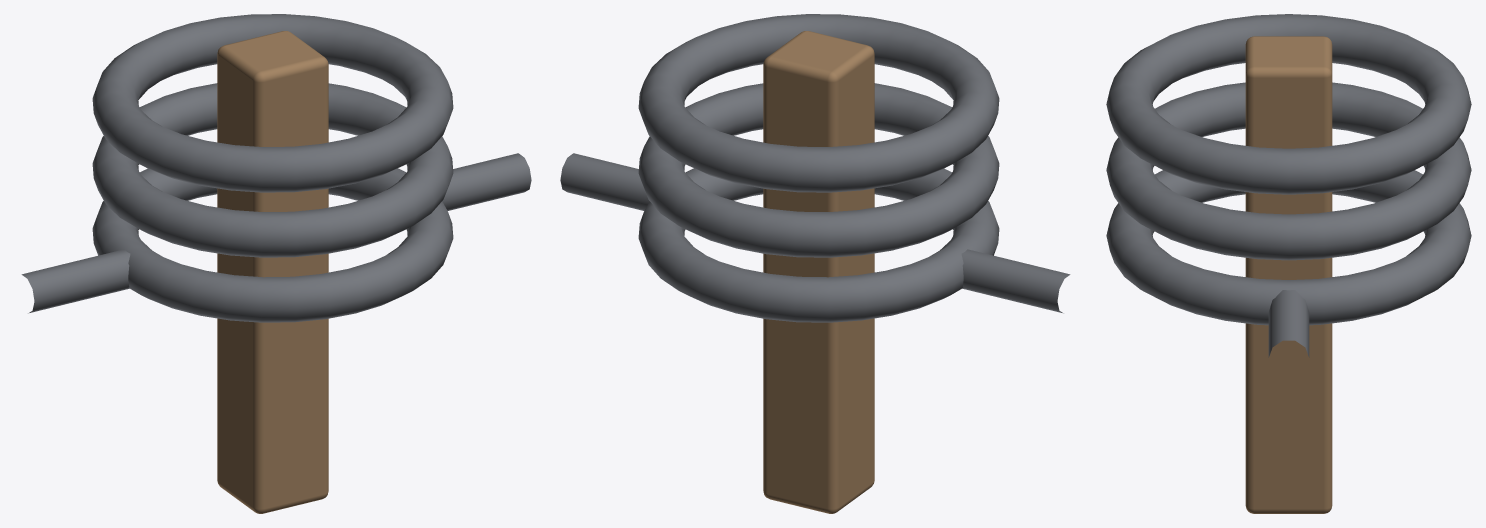
Rendered from marquetry-and-veneer-inlay-workshop-supported-vacuum-h-23769caf__39124.glb.
3 renders of one model, left to right at view 1: azimuth 30°, elevation 25°; view 2: azimuth 150°, elevation 25°; view 3: azimuth 270°, elevation 25°, orthographic.
Visible parts, largest first — view 1: supported-vacuum-hose-loop; view 2: supported-vacuum-hose-loop; view 3: supported-vacuum-hose-loop.
Part boxes in pixels (box(x1,y1,x2,y2)): supported-vacuum-hose-loop: box(21, 14, 531, 513); supported-vacuum-hose-loop: box(560, 14, 1070, 513); supported-vacuum-hose-loop: box(1106, 14, 1471, 513).
Bounding box in the file's own units: 0.4 × 0.34 × 0.252.
